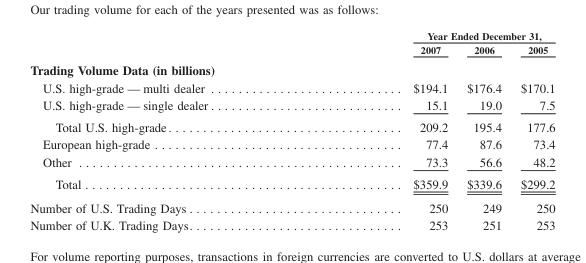table: (29, 29, 554, 231)
table column: (29, 29, 312, 231), (312, 29, 456, 231), (456, 29, 510, 231), (510, 29, 554, 231)
table column header: (29, 29, 554, 58)
table projected row header: (29, 58, 554, 78)
table row: (29, 172, 554, 195), (29, 195, 554, 216), (29, 58, 554, 78), (29, 115, 554, 135), (29, 152, 554, 172), (29, 96, 554, 115), (29, 78, 554, 96), (29, 41, 554, 58), (29, 135, 554, 152), (29, 216, 554, 231), (29, 29, 554, 41)
table spanning cell: (312, 29, 554, 41)
